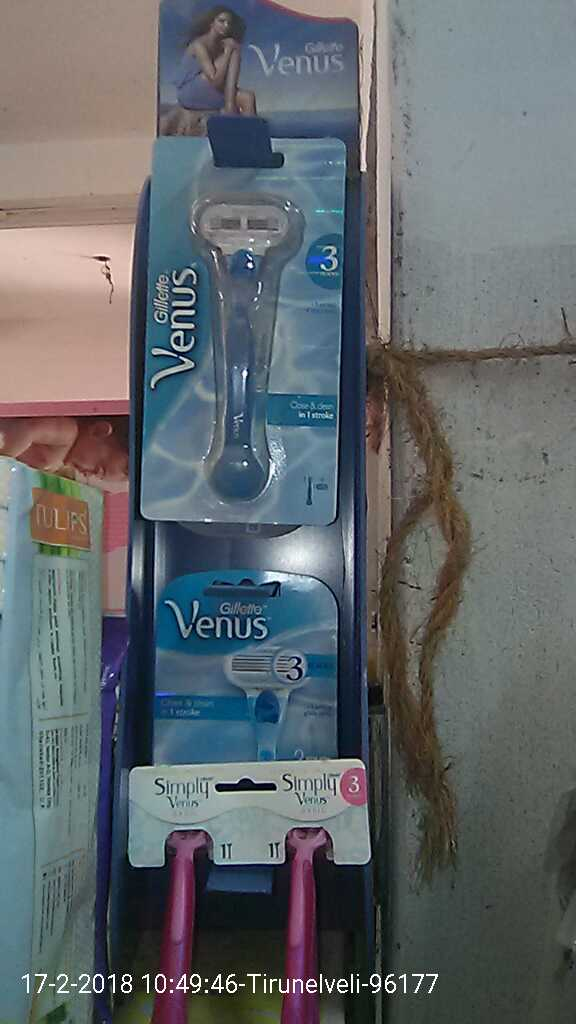venus: (160, 144, 314, 506), (164, 564, 347, 780)
